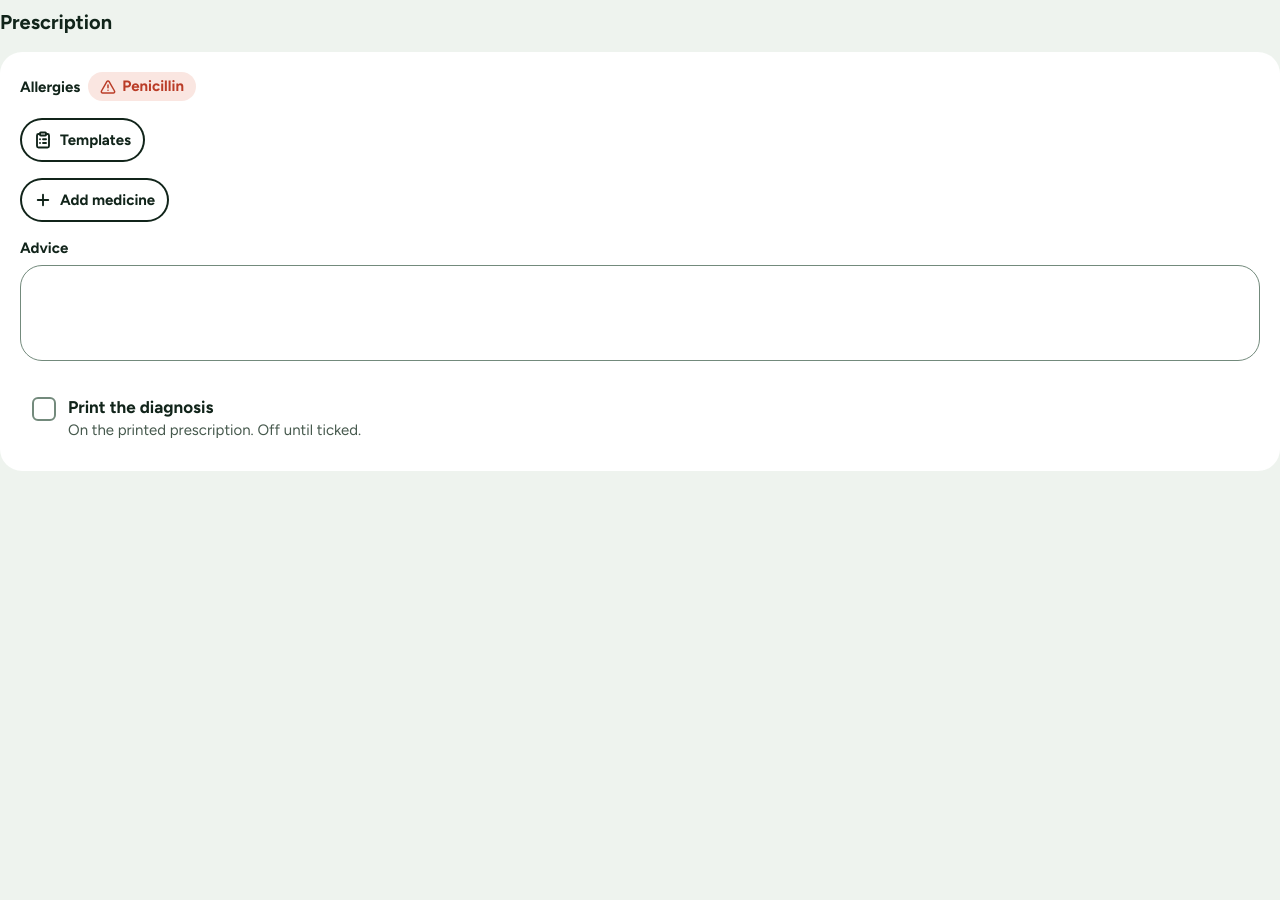
Test case: PrescriptionSection's Repeat and templates (D236 – D241) › adds a template picked from the sheet, its advice filling an empty box
Click the button "Templates": (83, 140) [20, 118, 145, 162]
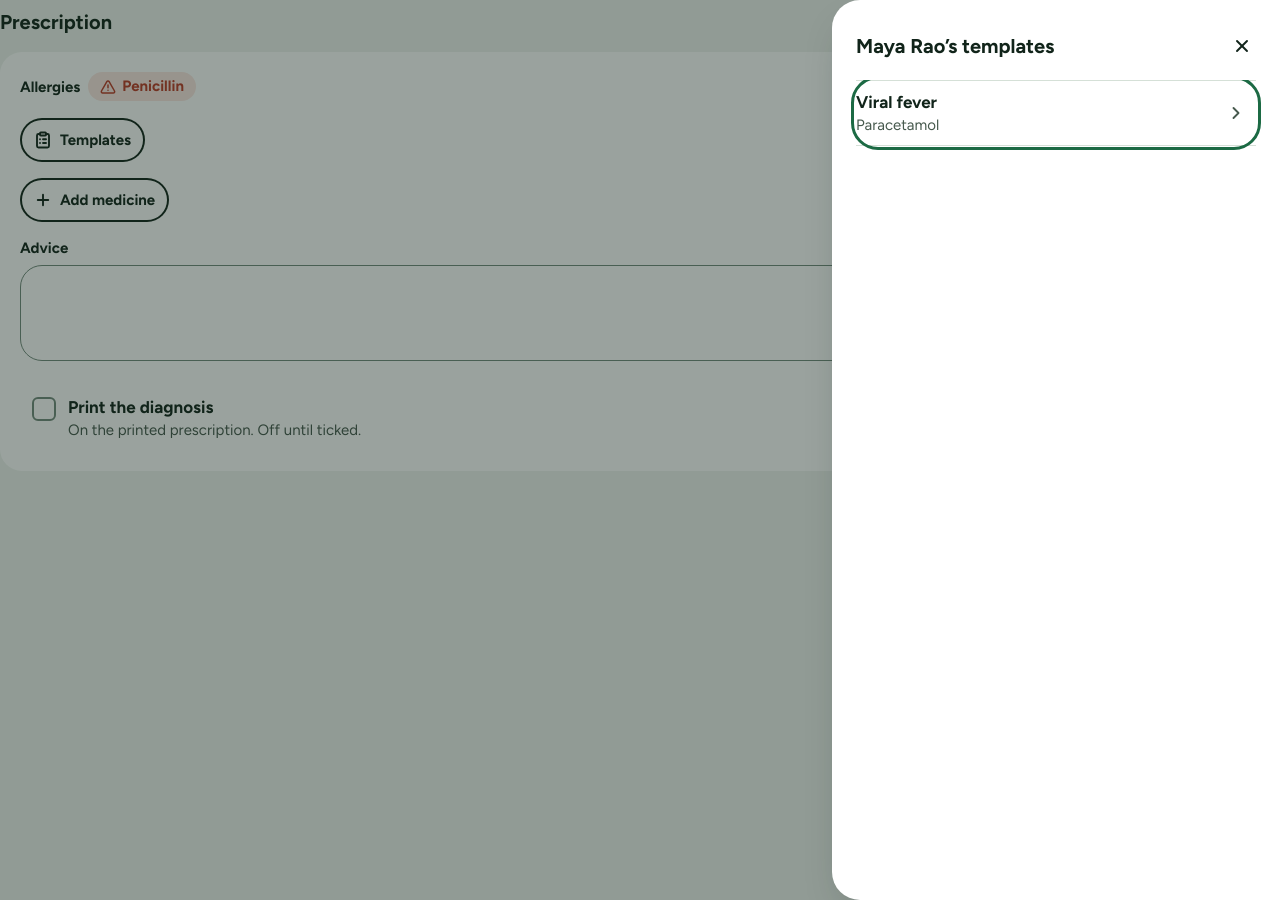
Click the button "Viral fever": (897, 102) [856, 90, 1214, 115]
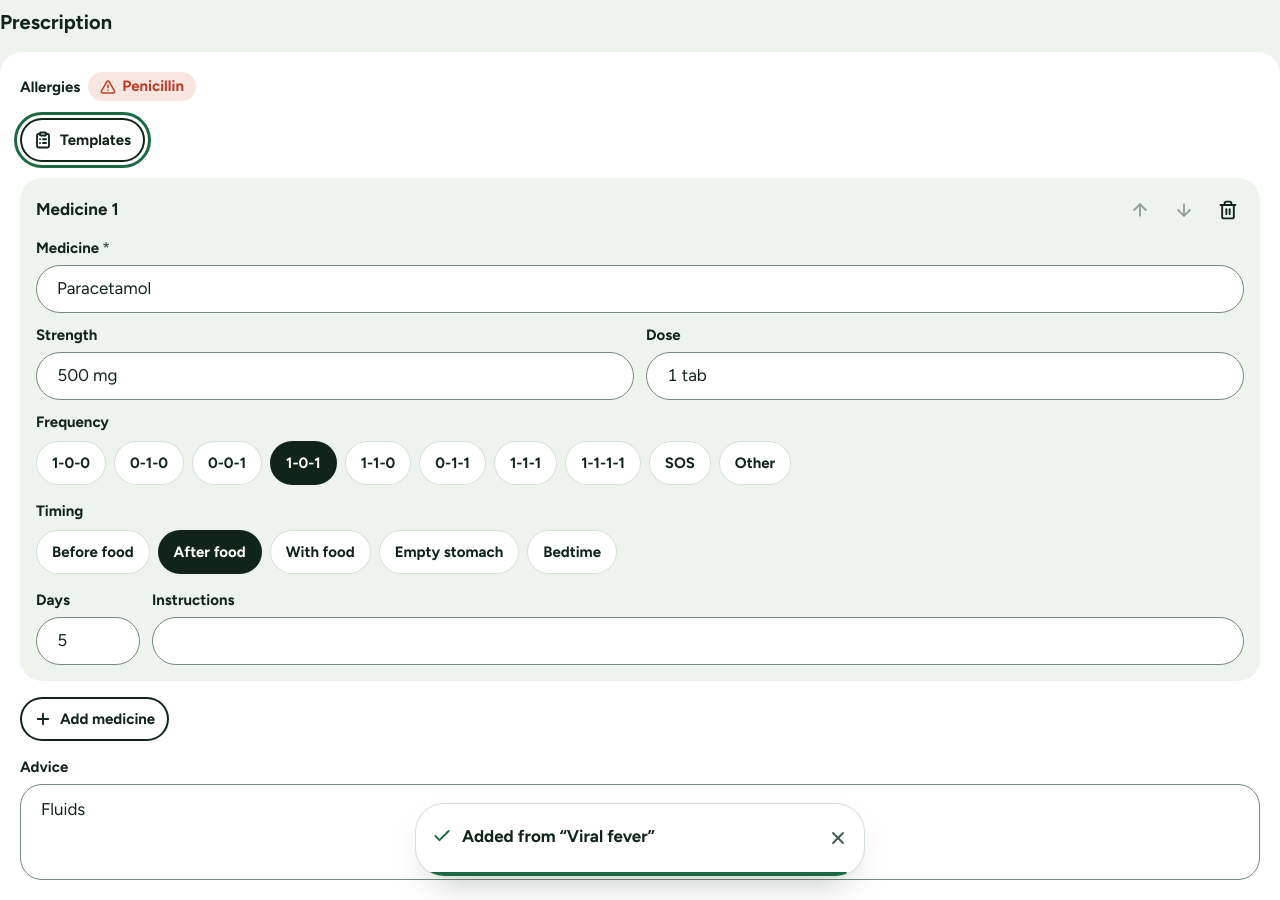
Now the text box labelled "Advice" holds "Fluids", box [20, 784, 1260, 880]
